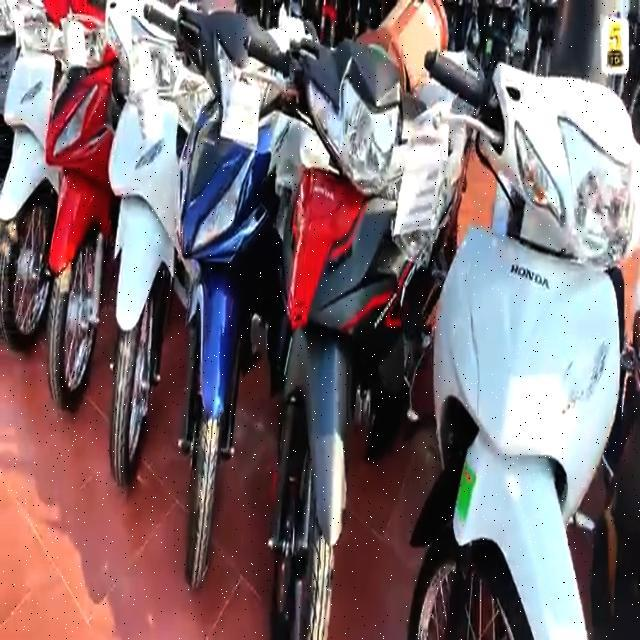motorcycle: (419, 46, 640, 640), (249, 30, 425, 640), (168, 17, 277, 582), (95, 10, 188, 485), (27, 10, 117, 414)
